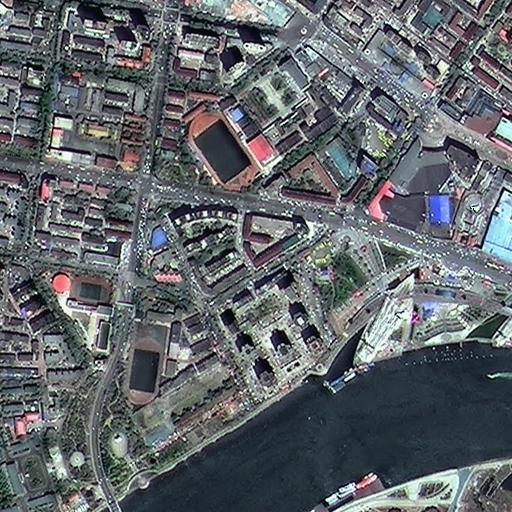school: (185, 49, 338, 192), (115, 288, 221, 408), (50, 267, 117, 355)
